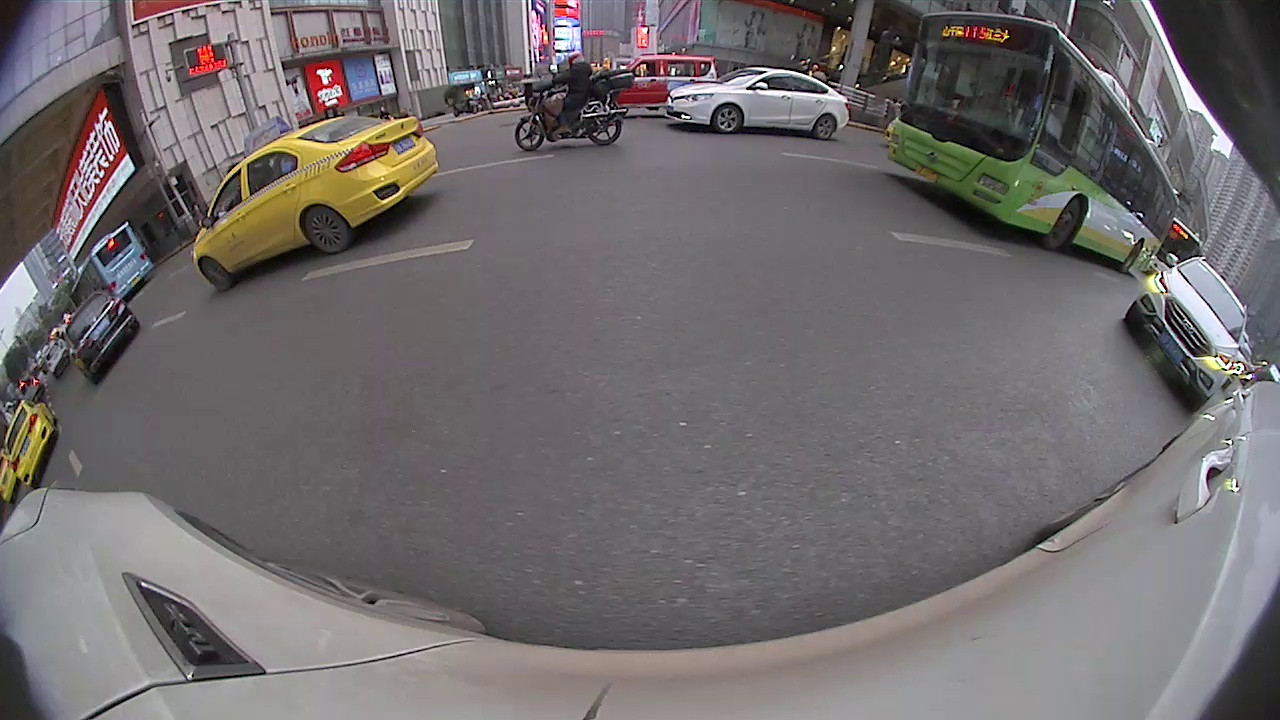bus: (878, 12, 1178, 276), (70, 219, 161, 317)
car: (188, 106, 442, 296), (1119, 257, 1257, 410), (662, 62, 852, 142), (66, 290, 141, 378), (7, 400, 62, 489)
front: (1046, 194, 1083, 254), (195, 257, 233, 291), (514, 117, 549, 146), (710, 104, 743, 134)
rear: (298, 205, 351, 254), (585, 110, 622, 143), (813, 115, 841, 137)
rider: (506, 53, 633, 150), (600, 53, 716, 121)
